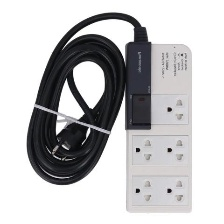three_eye_plug: (122, 40, 195, 215)
